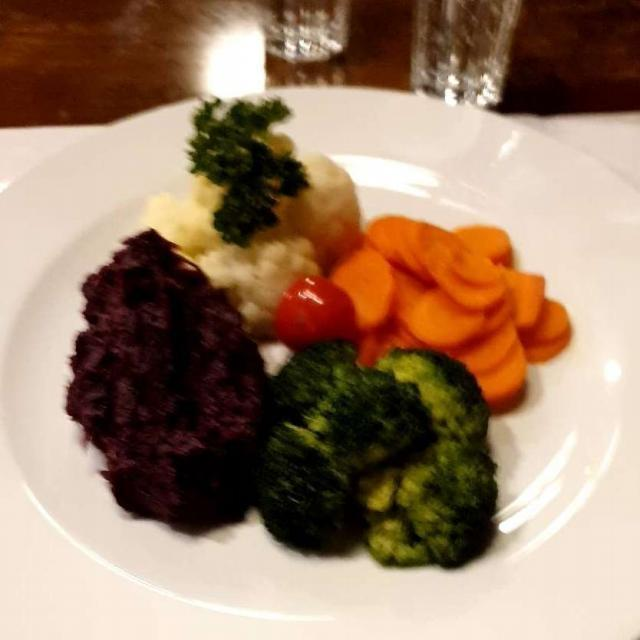broccoli: (236, 333, 516, 559)
cabbage: (68, 229, 273, 533)
carrot: (327, 200, 564, 397)
cauliflower: (150, 158, 362, 331)
